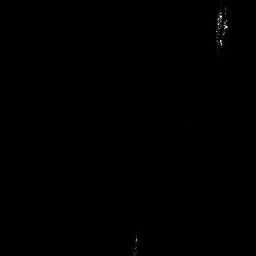ship: (213, 1, 229, 56)
